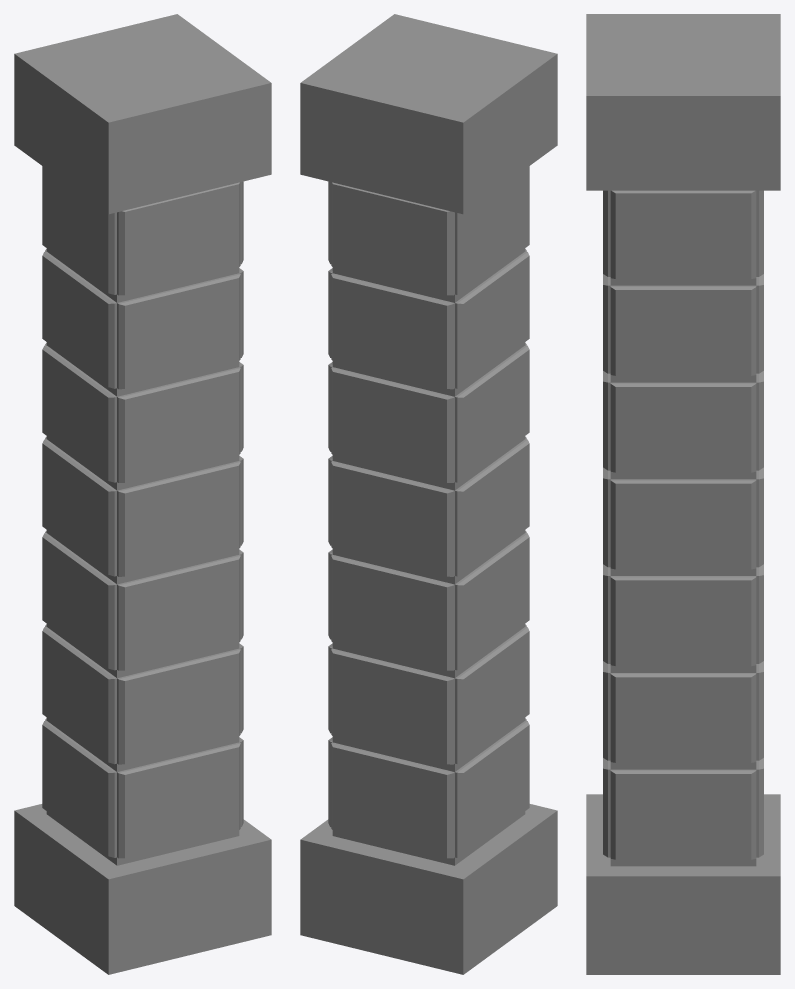
The model's file is Assets.fbx_Column.fbx.
The picture shows the model from 3 angles, left to right: view 1: azimuth 30°, elevation 25°; view 2: azimuth 150°, elevation 25°; view 3: azimuth 270°, elevation 25°; orthographic projection. The views are drawn at different scales.
Visible parts, largest first — view 1: Column; view 2: Column; view 3: Column.
Boxes of the visible parts, <box> form: Column: <box>14,14,271,974</box>; Column: <box>300,14,557,974</box>; Column: <box>586,14,780,974</box>.
Bounding box in the file's own units: 40 × 200 × 40.
